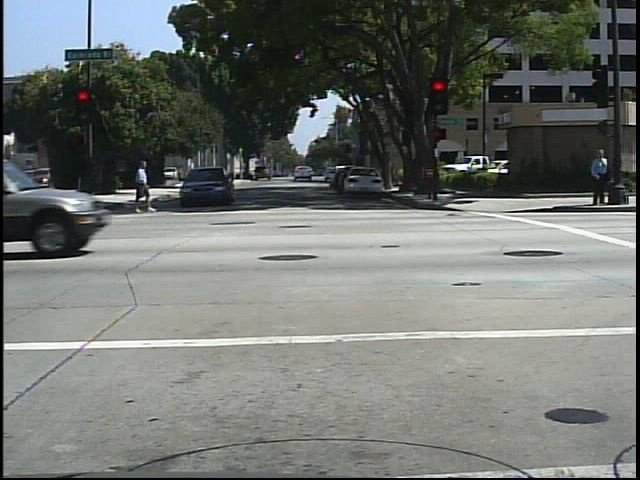person: (127, 155, 158, 219), (588, 142, 612, 209)
